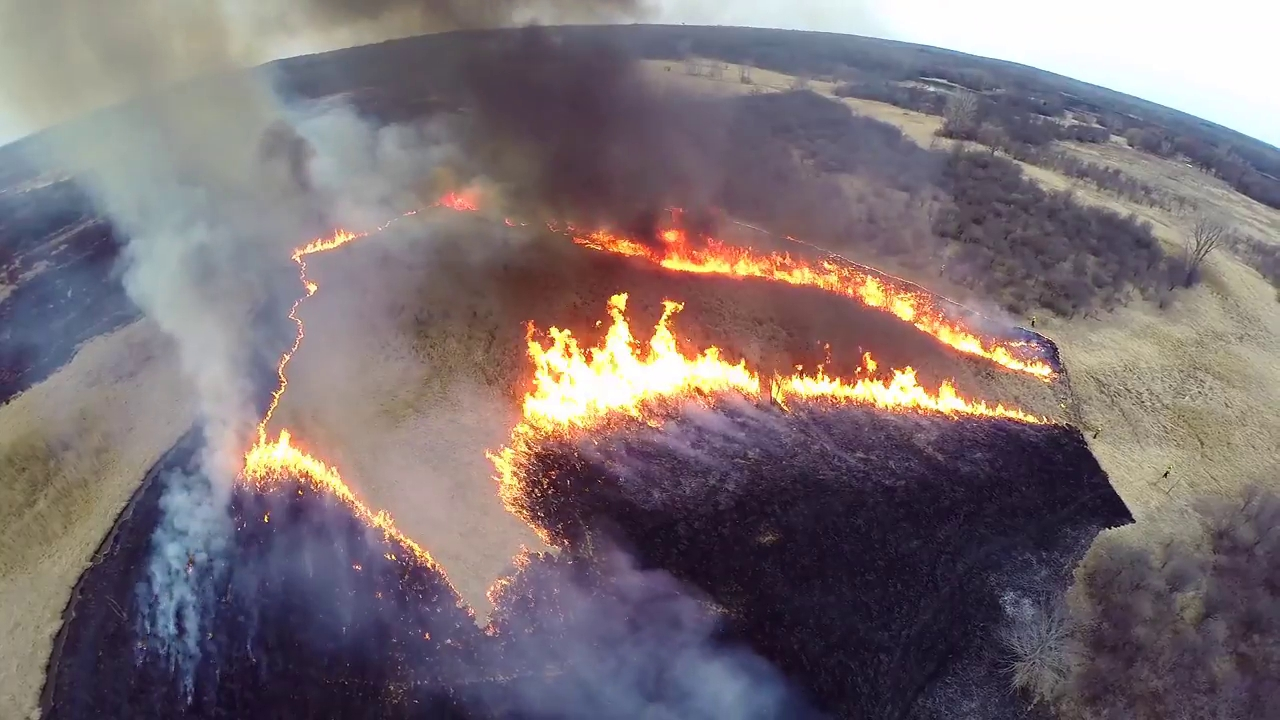forest_fire: (488, 293, 1044, 508), (569, 228, 1040, 374), (238, 229, 432, 564), (486, 547, 534, 624), (436, 194, 477, 209), (377, 221, 389, 229), (1045, 364, 1049, 372), (854, 277, 855, 278)
